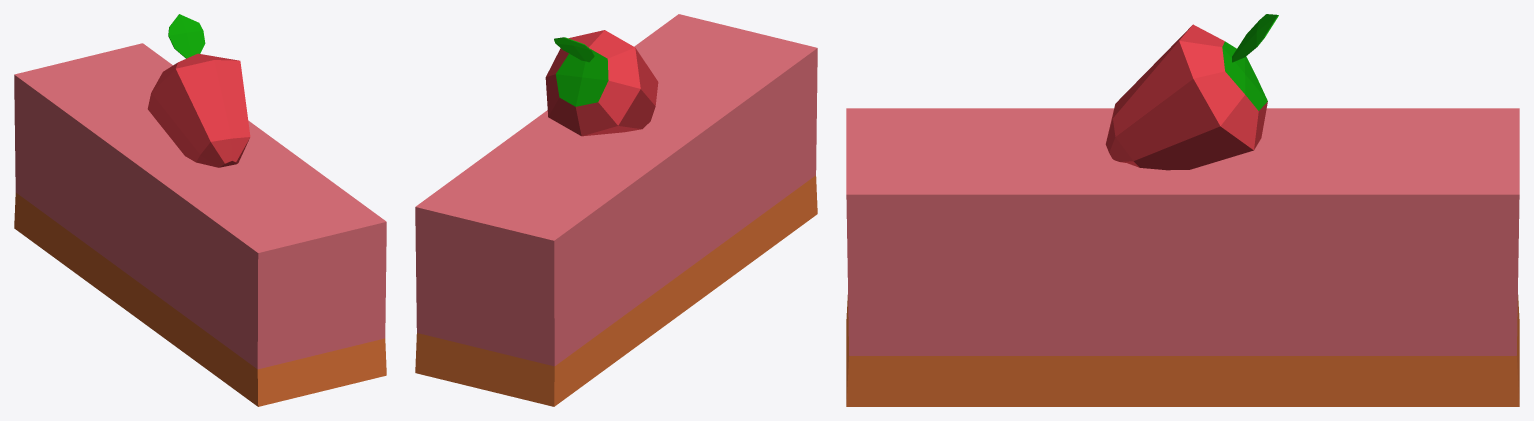
Rendered from Parfait.glb.
3 renders of one model, left to right at view 1: azimuth 30°, elevation 25°; view 2: azimuth 150°, elevation 25°; view 3: azimuth 270°, elevation 25°, orthographic. The views are drawn at different scales.
Visible parts, largest first — view 1: Cube, Cube.001, Cube.002; view 2: Cube, Cube.001, Cube.002; view 3: Cube, Cube.001, Cube.002.
Boxes of the visible parts, box(x1,y1,x2,y2) form: Cube: box(14, 43, 386, 406); Cube.001: box(147, 53, 250, 167); Cube.002: box(168, 14, 205, 58); Cube: box(415, 14, 817, 406); Cube.001: box(545, 30, 658, 136); Cube.002: box(554, 37, 594, 62); Cube: box(846, 108, 1519, 406); Cube.001: box(1105, 24, 1267, 170); Cube.002: box(1232, 14, 1278, 62).
Size of the model in its own units: 0.07 by 0.1349 by 0.23.
